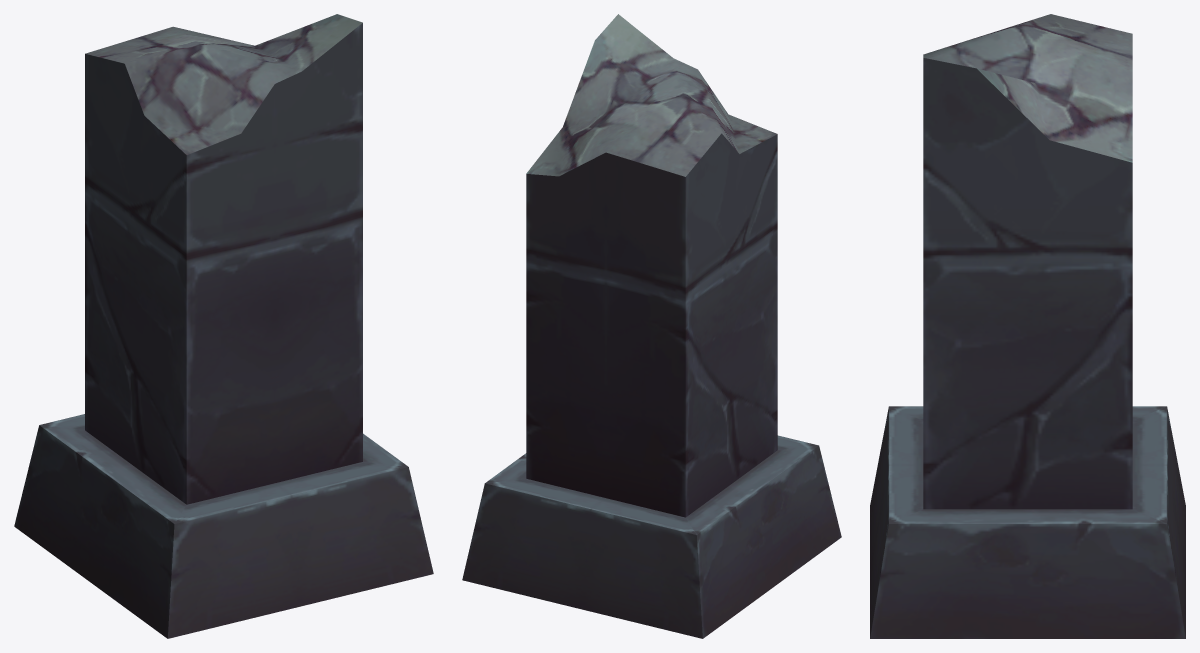
File: huoshan_stone_03.FBX
3 views of the same model, side by side, from view 1: azimuth 30°, elevation 25°; view 2: azimuth 150°, elevation 25°; view 3: azimuth 270°, elevation 25° (orthographic). The views are drawn at different scales.
Visible parts, largest first — view 1: huoshan_stone_03; view 2: huoshan_stone_03; view 3: huoshan_stone_03.
Boxes of the visible parts, x1,y1,x2,y2 form: huoshan_stone_03: (14,14,433,638); huoshan_stone_03: (462,14,841,638); huoshan_stone_03: (870,14,1185,638).
Bounding box in the file's own units: 454 × 887 × 454.
